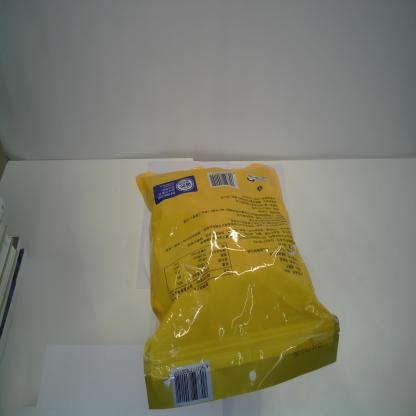Dried Food: (134, 162, 340, 412)
